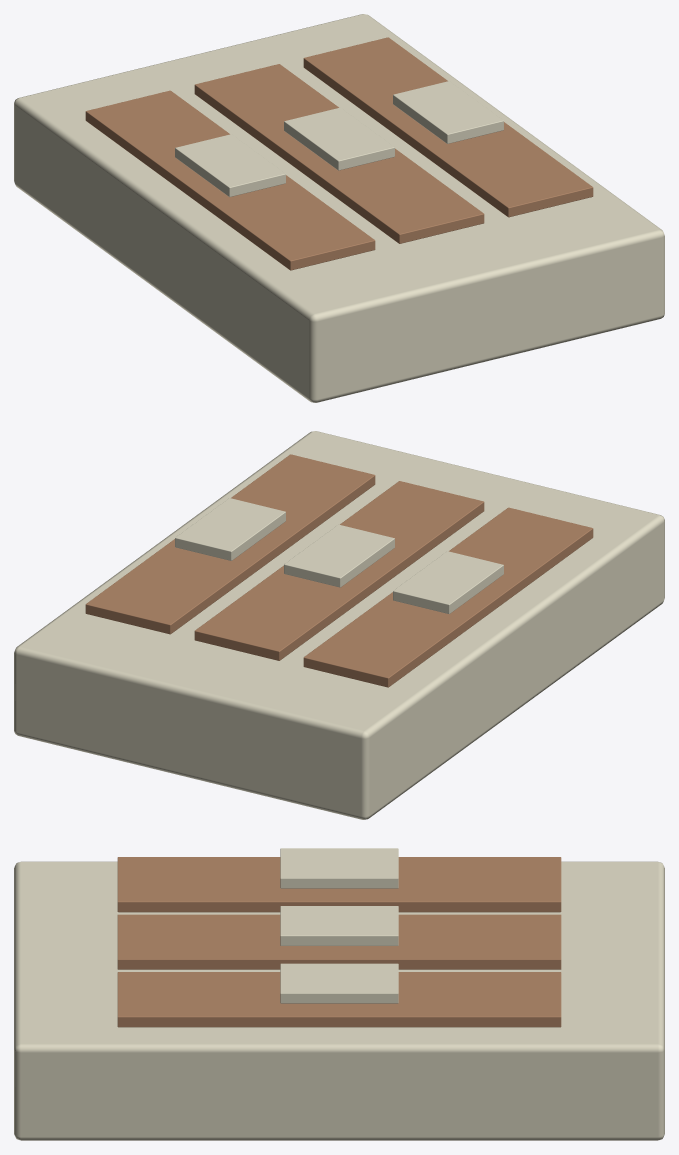
File: field-medicine-and-recovery-adhesive-strip-pack-3f638fcc__3040.glb
3 views of the same model, one above another, from view 1: azimuth 30°, elevation 25°; view 2: azimuth 150°, elevation 25°; view 3: azimuth 270°, elevation 25° (orthographic). The views are drawn at different scales.
Visible parts, largest first — view 1: adhesive-strip-pack; view 2: adhesive-strip-pack; view 3: adhesive-strip-pack.
Boxes of the visible parts, x1,y1,x2,y2 form: adhesive-strip-pack: (14,14,664,402); adhesive-strip-pack: (14,431,664,819); adhesive-strip-pack: (14,848,664,1140).
Bounding box in the file's own units: 0.075 × 0.024 × 0.11.
